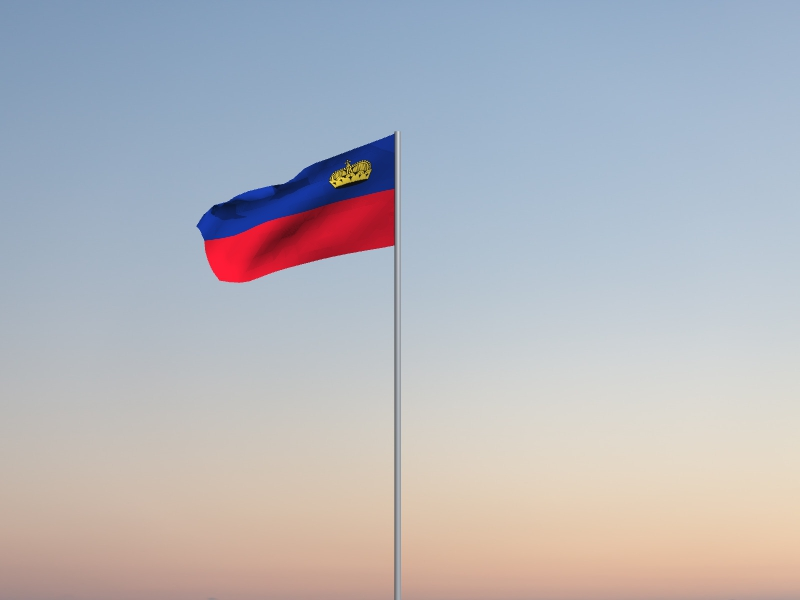li: (196, 135, 395, 284)
